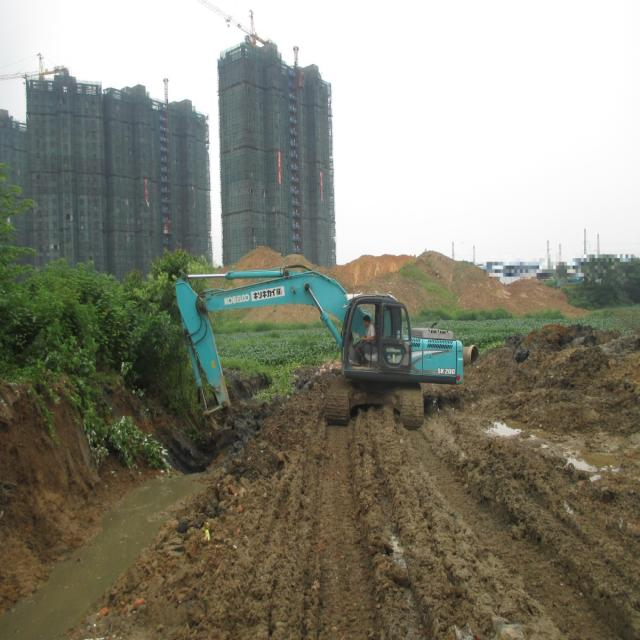crane: (196, 0, 265, 46), (0, 51, 63, 80)
excavator: (174, 262, 464, 443)
